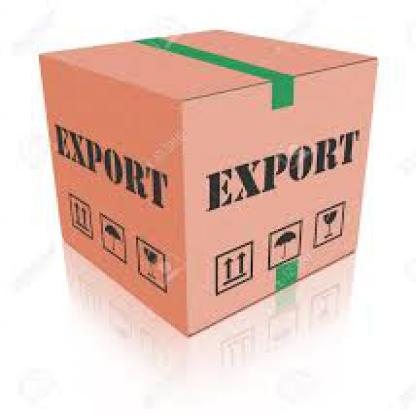paquete: (31, 19, 375, 337)
